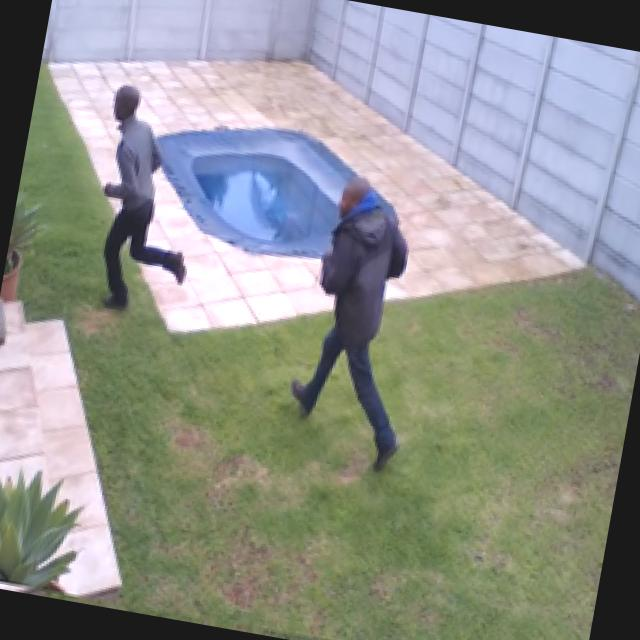person: (278, 174, 444, 475), (77, 84, 216, 318)
